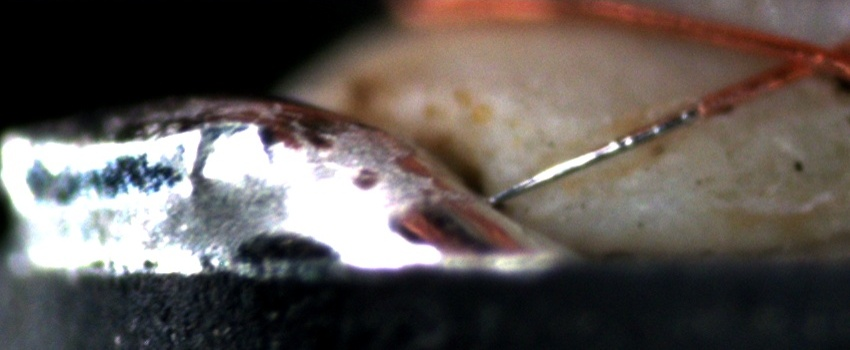CL: (762, 29, 840, 88)
TS: (491, 107, 699, 205)
